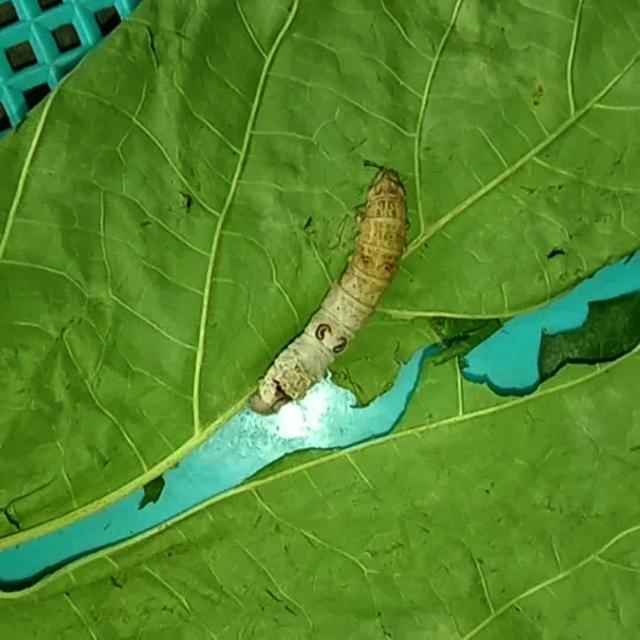Grasserie: (240, 164, 424, 420)
